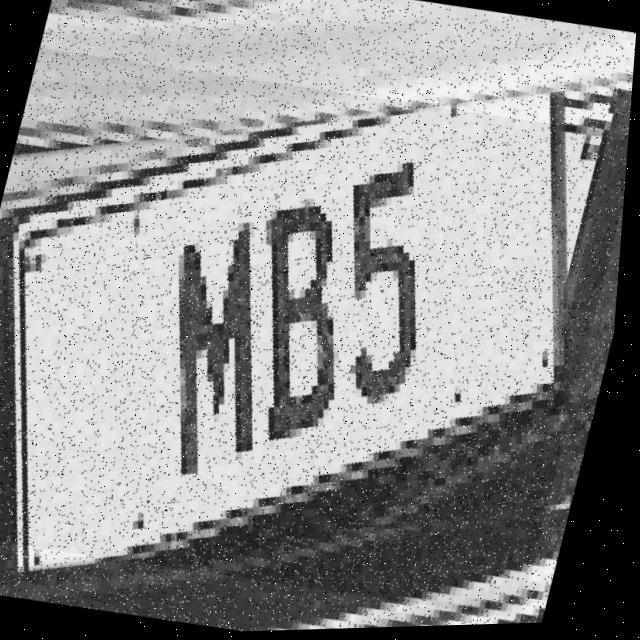LicensePlate: (0, 33, 637, 635)
